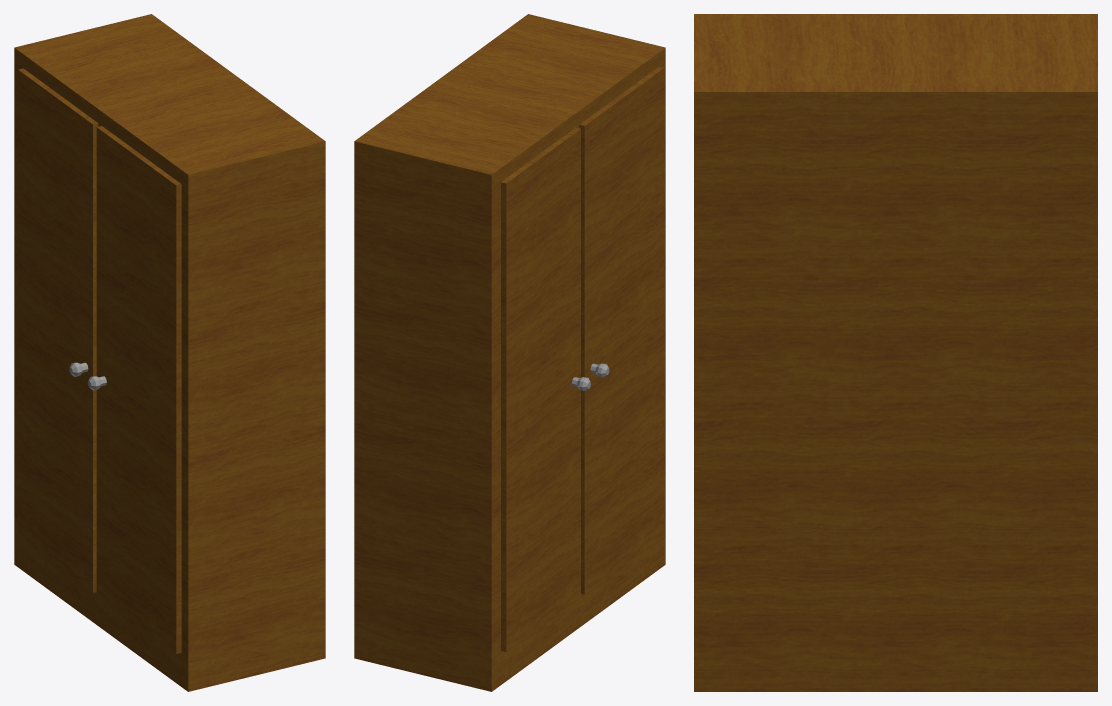
File: Almira .fbx
The picture shows the model from 3 angles, left to right: view 1: azimuth 30°, elevation 25°; view 2: azimuth 150°, elevation 25°; view 3: azimuth 270°, elevation 25°; orthographic projection. The views are drawn at different scales.
Visible parts, largest first — view 1: bEDROOM dRWAER.001; view 2: bEDROOM dRWAER.001; view 3: bEDROOM dRWAER.001.
Boxes of the visible parts, bbox=[...] form: bEDROOM dRWAER.001: bbox=[14, 14, 325, 691]; bEDROOM dRWAER.001: bbox=[354, 14, 665, 691]; bEDROOM dRWAER.001: bbox=[694, 14, 1097, 691].
Bounding box in the file's own units: 531 × 1662 × 1013.
Materials: 2 (1 with a texture image).
